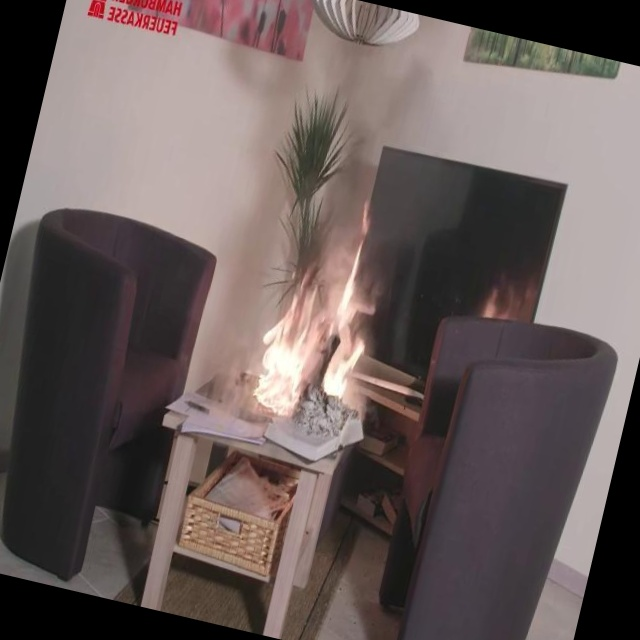fire: (226, 179, 404, 431)
